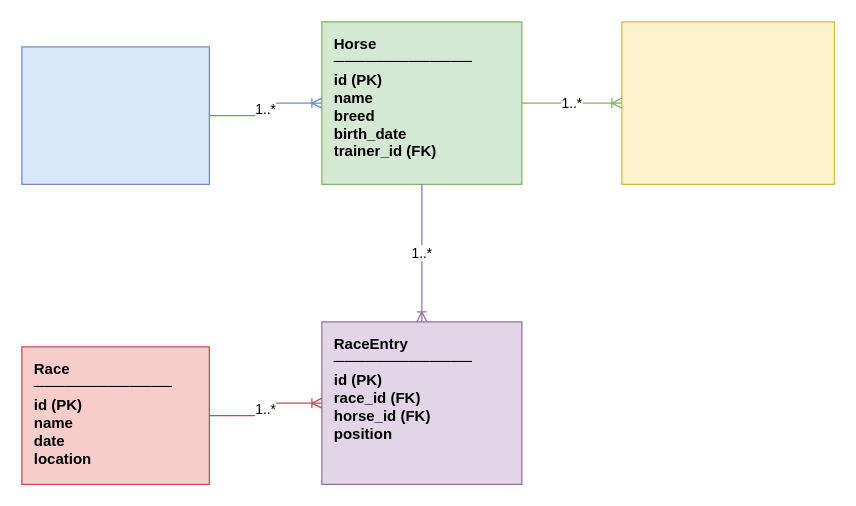
Image size: 856x506. Some labels were removed from this diagram. Here are the shapes that lost their labels. From the top down, the centre of each, then its label:
At (115,115): "Trainer ───────────── id (PK) name license_no".
At (727,102): "TrainingSession ───────────── id (PK) horse_id (FK) date duration_min notes".
